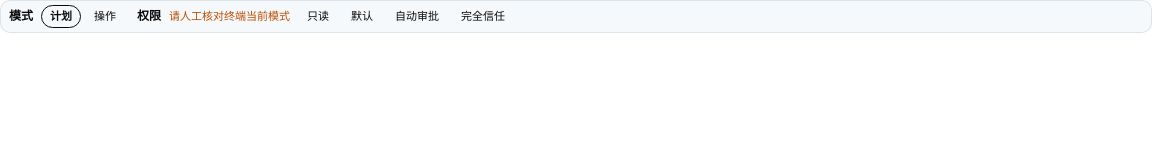
Scenario: 丁T4 模式二维与回读（§2.6 规格表） › mode_switch_busy（codex 运行中）：failed 回执进 error 区，不进 receipt
Click the button with test id "mode-switch-mode-default": (105, 16) [85, 5, 125, 28]
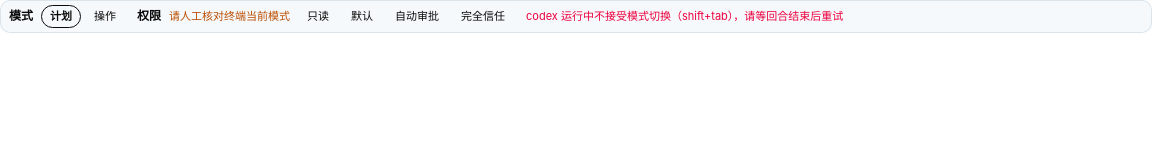
Expected: the text with test id "mode-error" shows "运行中不接受模式切换", [526, 9, 843, 23]
